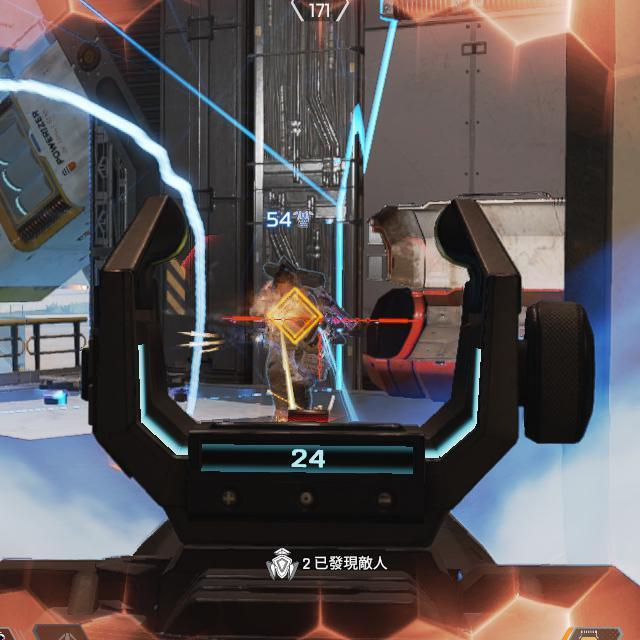avatar: (248, 258, 337, 423)
object: (266, 285, 325, 347)
